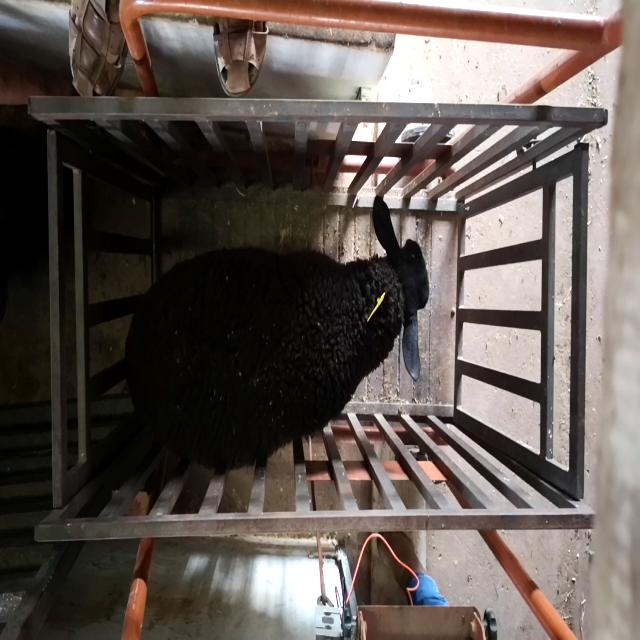sheep: (125, 195, 430, 473)
